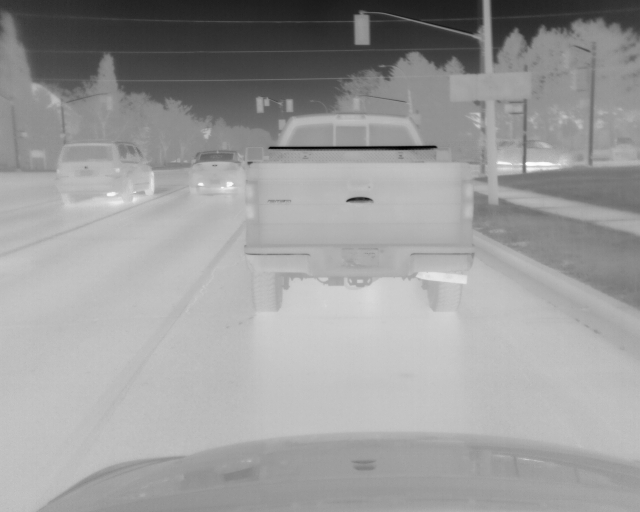car: (247, 112, 476, 314), (55, 140, 156, 207), (497, 137, 576, 175), (189, 149, 249, 196)
